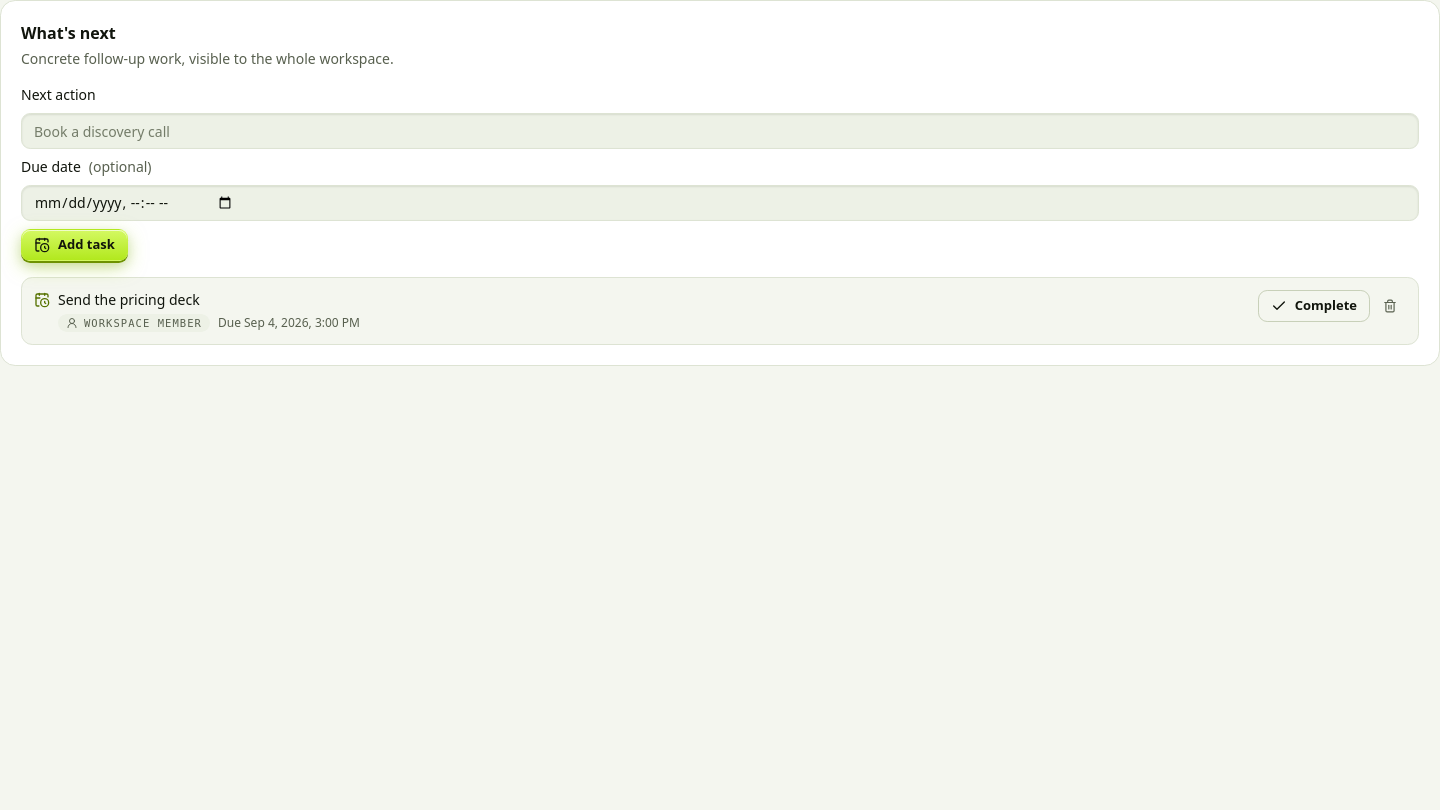
deleting asks first, and cancelling sends nothing
Step 1. Click the button named "delete send the pricing deck" → (1390, 306), box x1=1374 y1=290 x2=1406 y2=322
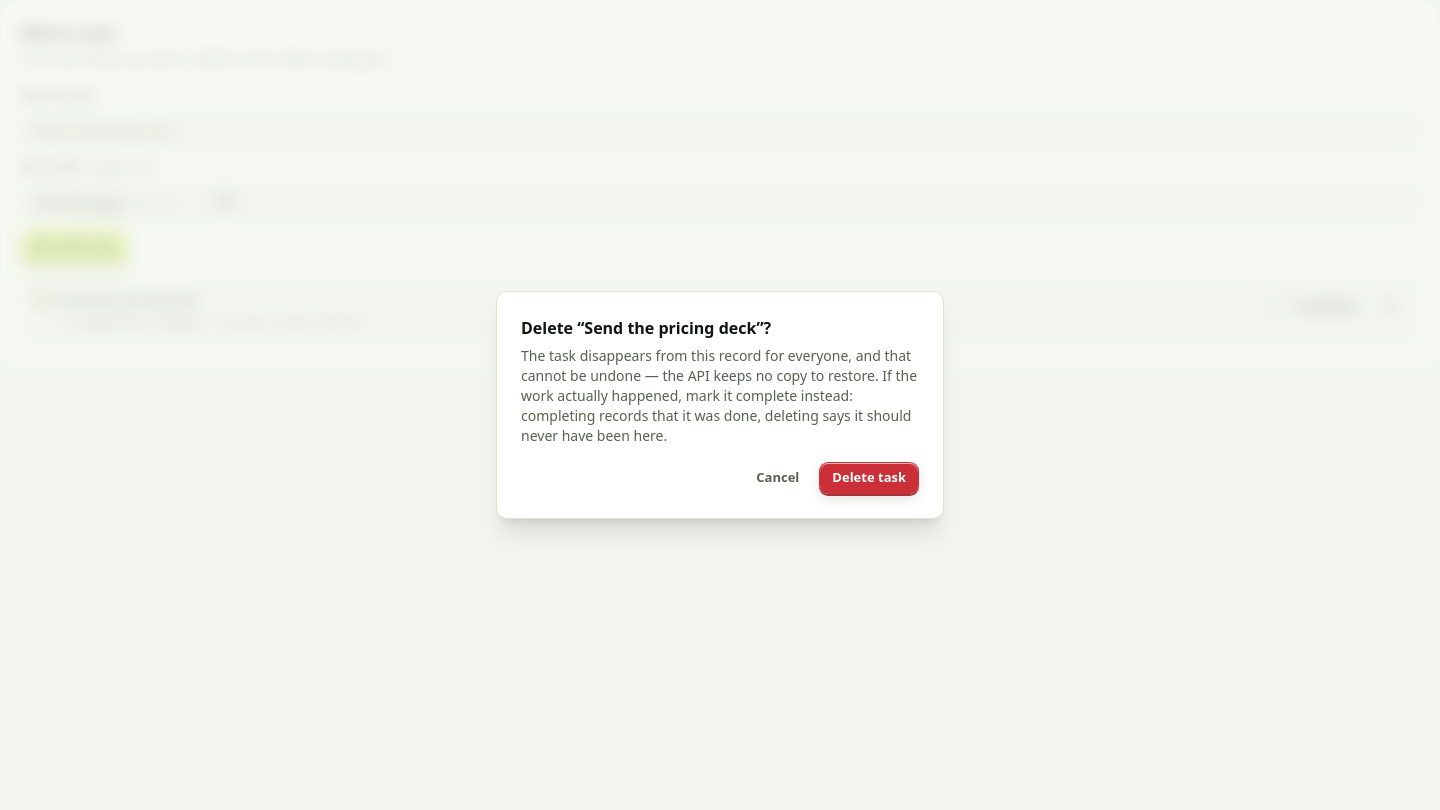
Now the dialog shows "cannot be undone", box x1=521 y1=346 x2=917 y2=445
Now the dialog shows "mark it complete instead", box x1=521 y1=346 x2=917 y2=445
Step 2. Click the button "Cancel" → (778, 478), box x1=744 y1=462 x2=811 y2=494
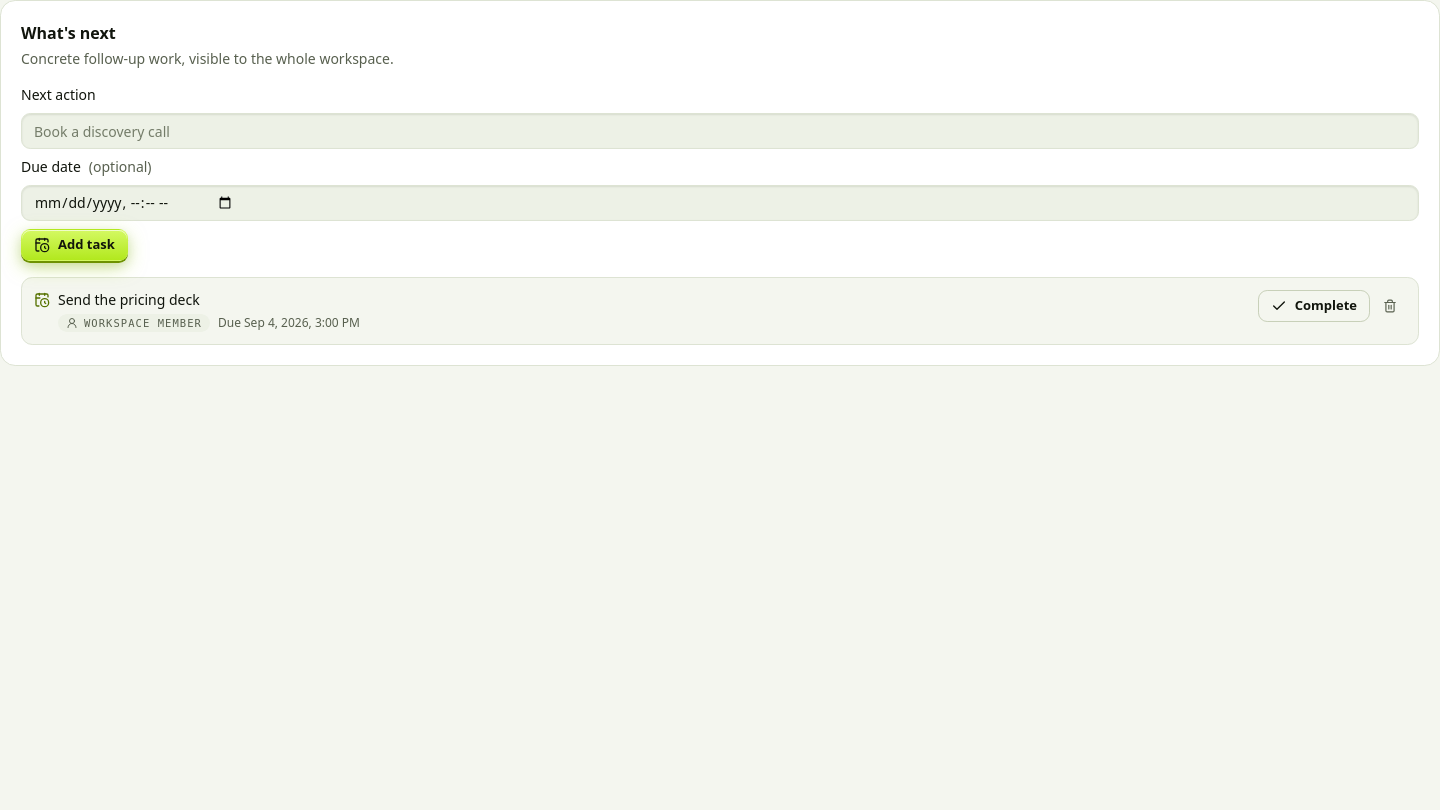
Expected: the text "Send the pricing deck" is shown, x1=58 y1=290 x2=200 y2=309
Now the dialog is gone
